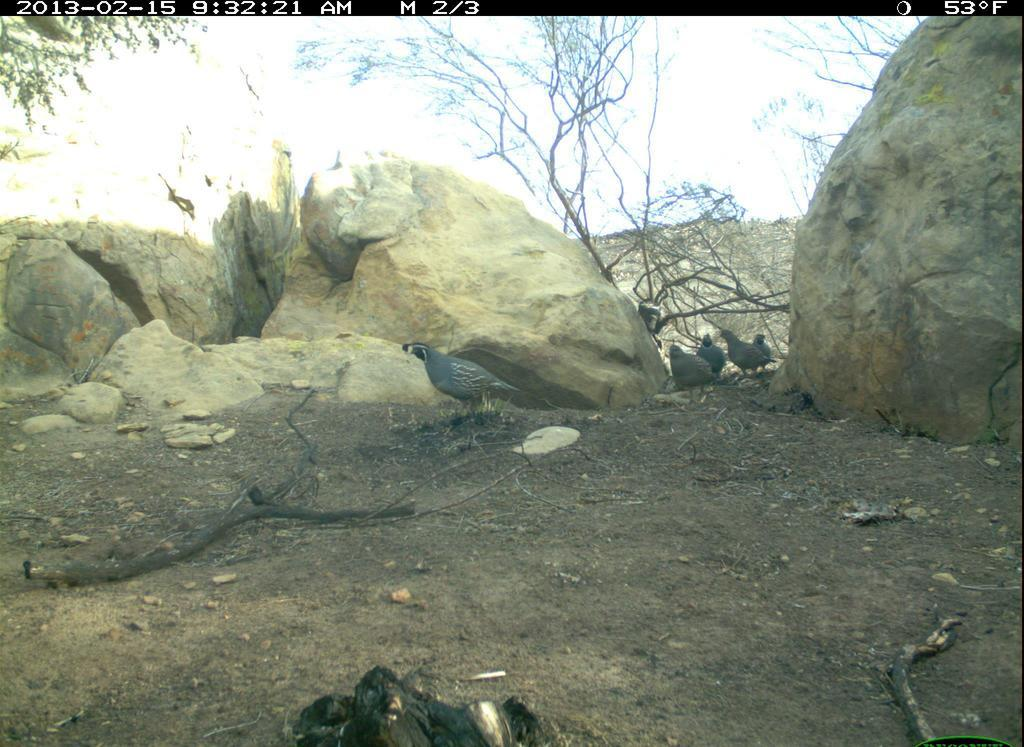bird: (401, 333, 525, 425), (716, 323, 777, 383), (667, 340, 719, 399), (701, 327, 735, 383)
